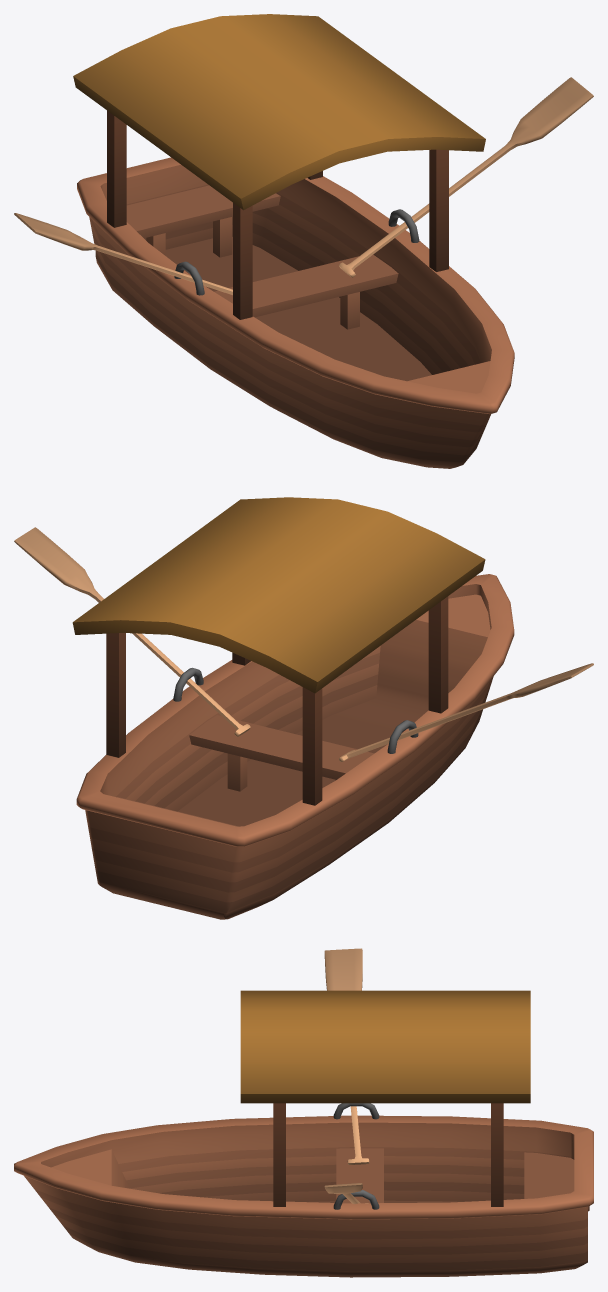
File: fishing boat roof.fbx
3 views of the same model, one above another, from view 1: azimuth 30°, elevation 25°; view 2: azimuth 150°, elevation 25°; view 3: azimuth 270°, elevation 25° (orthographic). The views are drawn at different scales.
Parts seen in each view (by area): view 1: fishing_boat_roof, paddle_fishing_boat_roof_l, paddle_fishing_boat_roof_r; view 2: fishing_boat_roof, paddle_fishing_boat_roof_l, paddle_fishing_boat_roof_r; view 3: fishing_boat_roof, paddle_fishing_boat_roof_r, paddle_fishing_boat_roof_l.
Boxes of the visible parts, box(x1,y1,x2,y2) form: fishing_boat_roof: box(73, 14, 514, 468); paddle_fishing_boat_roof_l: box(339, 77, 593, 277); paddle_fishing_boat_roof_r: box(14, 213, 232, 294); fishing_boat_roof: box(72, 497, 514, 919); paddle_fishing_boat_roof_l: box(14, 527, 250, 736); paddle_fishing_boat_roof_r: box(339, 663, 593, 761); fishing_boat_roof: box(14, 990, 593, 1277); paddle_fishing_boat_roof_r: box(324, 948, 369, 1164); paddle_fishing_boat_roof_l: box(324, 1183, 368, 1204).
Size of the model in its own units: 423 by 186 by 439.
1 material, 1 textured.
